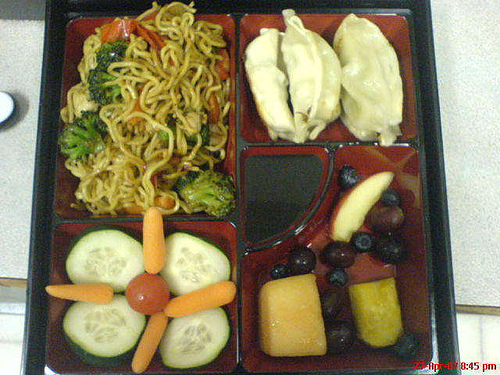cucumber: (62, 296, 144, 365), (64, 227, 145, 295), (155, 306, 232, 373), (160, 232, 231, 297)
